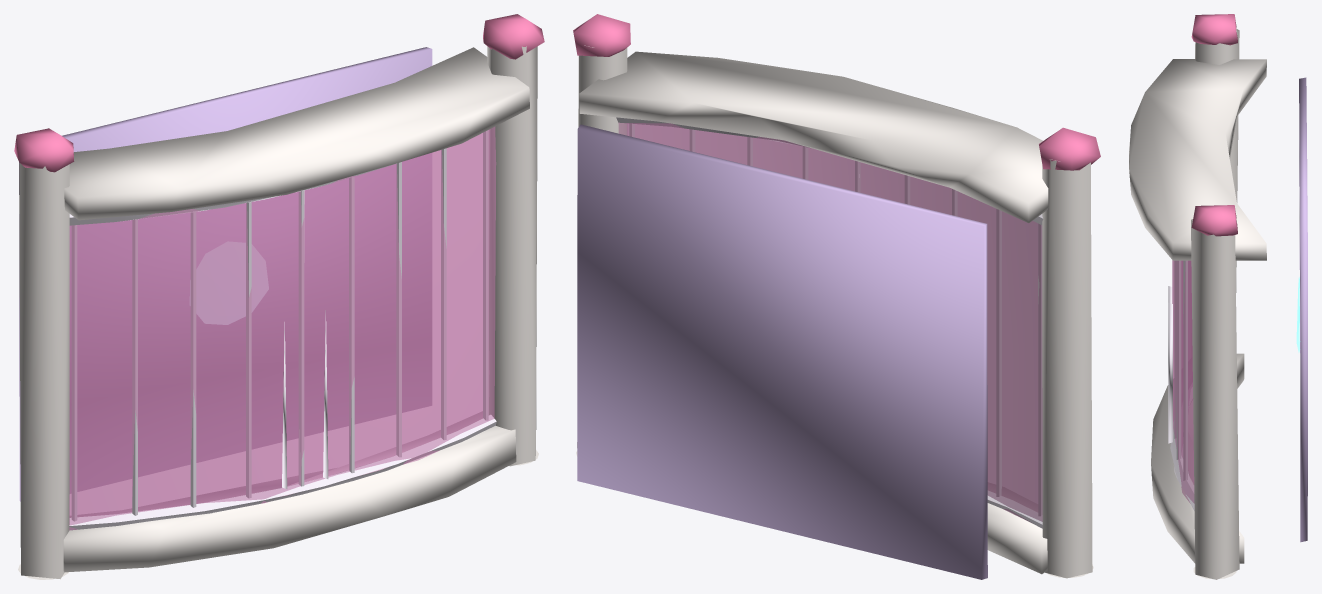
The model's file is lod_storefront_glass.glb.
The picture shows the model from 3 angles, left to right: view 1: azimuth 30°, elevation 25°; view 2: azimuth 150°, elevation 25°; view 3: azimuth 270°, elevation 25°; orthographic projection. The views are drawn at different scales.
Parts seen in each view (by area): view 1: storefront_glass; view 2: storefront_glass; view 3: storefront_glass.
Boxes of the visible parts, x1,y1,x2,y2 form: storefront_glass: [14, 14, 544, 579]; storefront_glass: [573, 14, 1100, 579]; storefront_glass: [1129, 14, 1307, 579].
Bounding box in the file's own units: 4.61 × 3.65 × 1.62.
